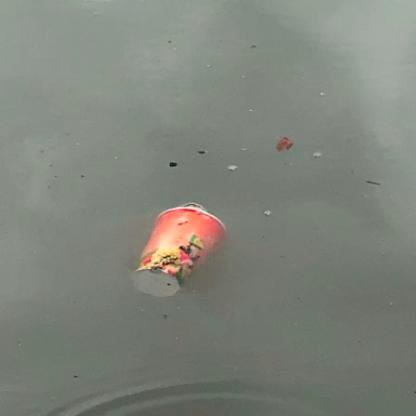Plastic: (130, 202, 233, 299)
